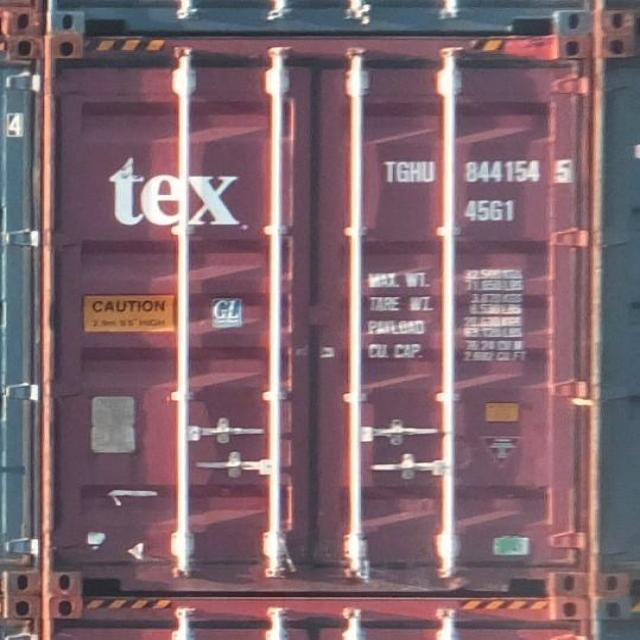ISO: (466, 196, 526, 222)
container_number: (381, 158, 584, 188)
